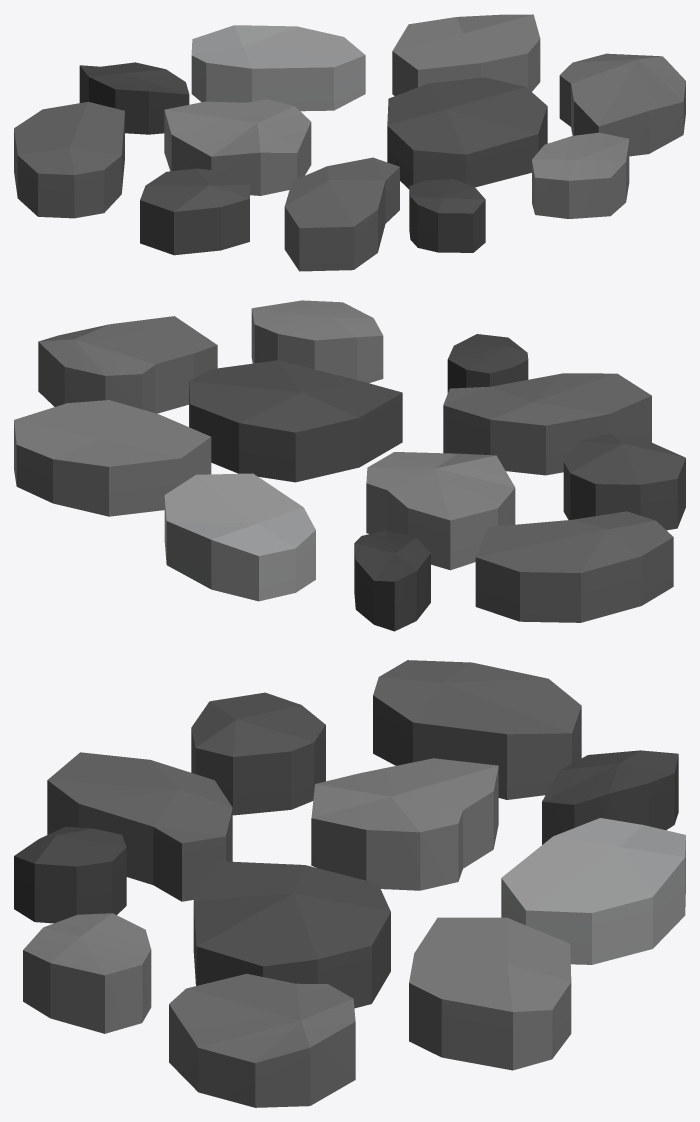
Rendered from Stone_A.fbx.
3 views of the same model, one above another, from view 1: azimuth 30°, elevation 25°; view 2: azimuth 150°, elevation 25°; view 3: azimuth 270°, elevation 25° (orthographic). The views are drawn at different scales.
Visible parts, largest first — view 1: Stone_A; view 2: Stone_A; view 3: Stone_A.
Boxes of the visible parts, left/top/right/bottom form: Stone_A: left=14, top=14, right=685, bottom=271; Stone_A: left=14, top=300, right=685, bottom=631; Stone_A: left=14, top=660, right=685, bottom=1107.
Size of the model in its own units: 257 by 21.41 by 187.
